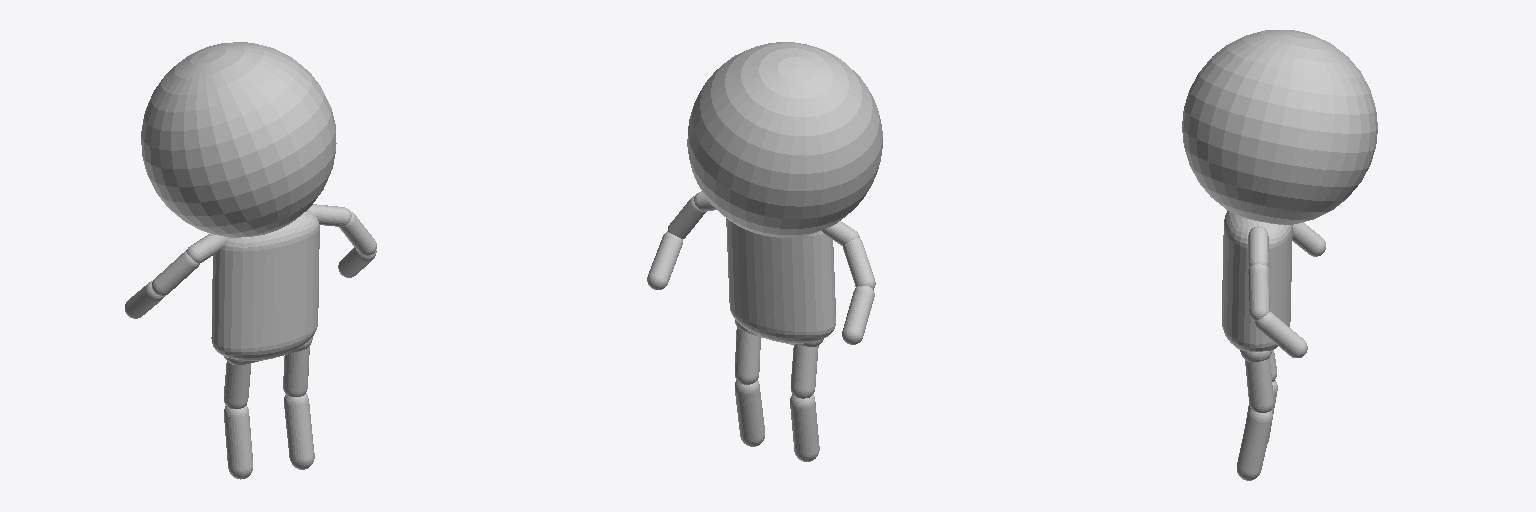
File: Stickman_000072.obj
3 renders of one model, left to right at view 1: azimuth 30°, elevation 25°; view 2: azimuth 150°, elevation 25°; view 3: azimuth 270°, elevation 25°, orthographic.
Visible parts, largest first — view 1: Head_Sphere.001, Body_Roundcube.002, LowerLegLeft_Roundcube.013, LowerLegRight_Roundcube.011, UpperLegLeft_Roundcube.012, UpperLegRight_Roundcube.010, UpperArmRight_Roundcube.015, UpperArmLeft_Roundcube.018, LowerArmRight_Roundcube.016, ShoulderLeft_Roundcube.017, ShoulderRight_Roundcube.014, LowerArmLeft_Roundcube.019; view 2: Head_Sphere.001, Body_Roundcube.002, LowerLegRight_Roundcube.011, LowerLegLeft_Roundcube.013, UpperLegRight_Roundcube.010, UpperLegLeft_Roundcube.012, LowerArmRight_Roundcube.016, LowerArmLeft_Roundcube.019, UpperArmRight_Roundcube.015, UpperArmLeft_Roundcube.018; view 3: Head_Sphere.001, Body_Roundcube.002, LowerLegLeft_Roundcube.013, UpperLegLeft_Roundcube.012, LowerArmLeft_Roundcube.019, UpperArmLeft_Roundcube.018, ShoulderLeft_Roundcube.017, LowerArmRight_Roundcube.016.
Part boxes in pixels (left/top/right/bottom): Head_Sphere.001: left=141, top=42, right=336, bottom=237; Body_Roundcube.002: left=211, top=211, right=319, bottom=360; LowerLegLeft_Roundcube.013: left=284, top=393, right=314, bottom=469; LowerLegRight_Roundcube.011: left=224, top=405, right=252, bottom=479; UpperLegLeft_Roundcube.012: left=283, top=346, right=309, bottom=396; UpperLegRight_Roundcube.010: left=224, top=361, right=250, bottom=408; UpperArmRight_Roundcube.015: left=152, top=251, right=199, bottom=295; UpperArmLeft_Roundcube.018: left=339, top=211, right=376, bottom=255; LowerArmRight_Roundcube.016: left=125, top=281, right=164, bottom=318; ShoulderLeft_Roundcube.017: left=307, top=204, right=351, bottom=226; ShoulderRight_Roundcube.014: left=186, top=234, right=228, bottom=263; LowerArmLeft_Roundcube.019: left=338, top=247, right=376, bottom=277; Head_Sphere.001: left=687, top=42, right=882, bottom=237; Body_Roundcube.002: left=726, top=218, right=835, bottom=343; LowerLegRight_Roundcube.011: left=790, top=394, right=819, bottom=461; LowerLegLeft_Roundcube.013: left=735, top=380, right=764, bottom=446; UpperLegRight_Roundcube.010: left=791, top=344, right=818, bottom=398; UpperLegLeft_Roundcube.012: left=735, top=327, right=760, bottom=384; LowerArmRight_Roundcube.016: left=842, top=286, right=874, bottom=344; LowerArmLeft_Roundcube.019: left=647, top=231, right=682, bottom=289; UpperArmRight_Roundcube.015: left=843, top=238, right=875, bottom=289; UpperArmLeft_Roundcube.018: left=668, top=196, right=706, bottom=238; Head_Sphere.001: left=1182, top=30, right=1377, bottom=224; Body_Roundcube.002: left=1222, top=210, right=1292, bottom=351; LowerLegLeft_Roundcube.013: left=1237, top=409, right=1272, bottom=480; UpperLegLeft_Roundcube.012: left=1245, top=358, right=1273, bottom=412; LowerArmLeft_Roundcube.019: left=1255, top=312, right=1307, bottom=357; UpperArmLeft_Roundcube.018: left=1248, top=264, right=1269, bottom=320; ShoulderLeft_Roundcube.017: left=1248, top=226, right=1268, bottom=266; LowerArmRight_Roundcube.016: left=1292, top=222, right=1325, bottom=256.
Size of the model in its own units: 7.22 by 12.87 by 5.48.